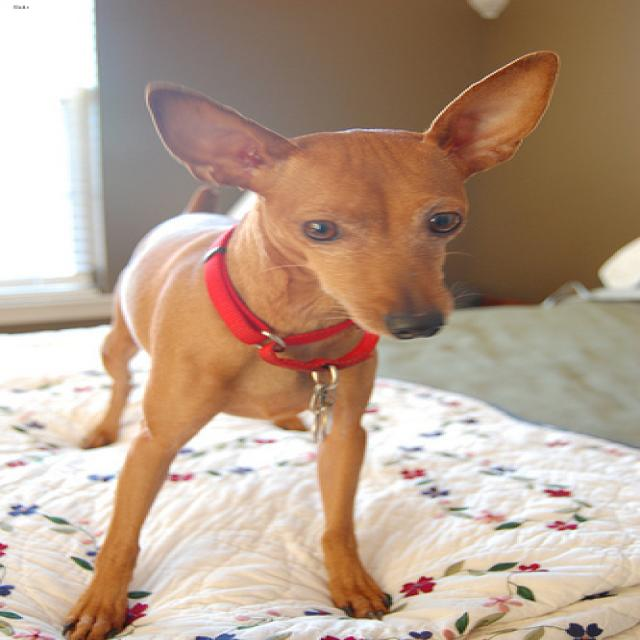dog-miniature_pinscher: (46, 45, 565, 637)
